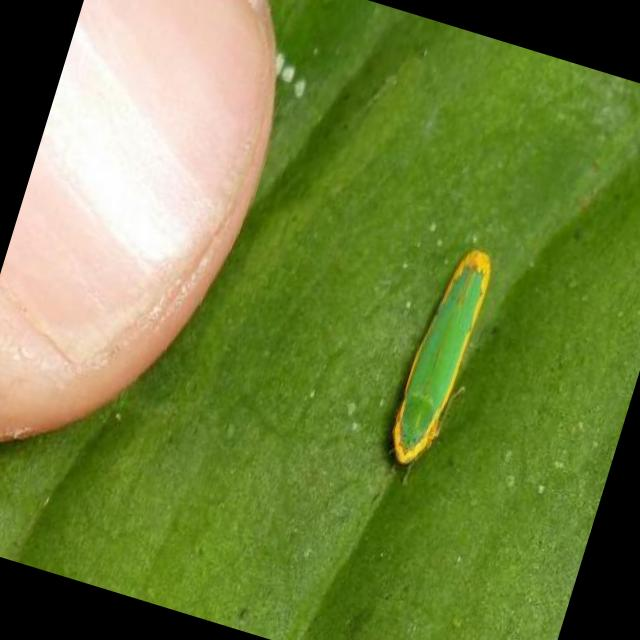green-leafhopper: (368, 232, 514, 484)
